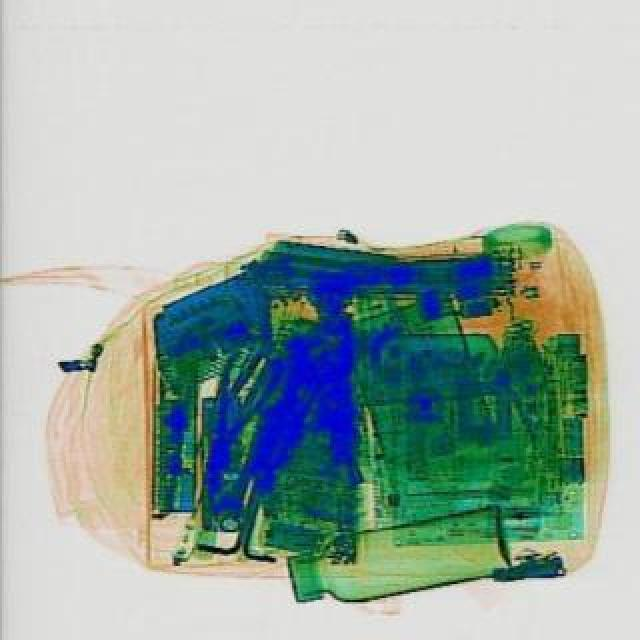wrench: (184, 346, 280, 498)
